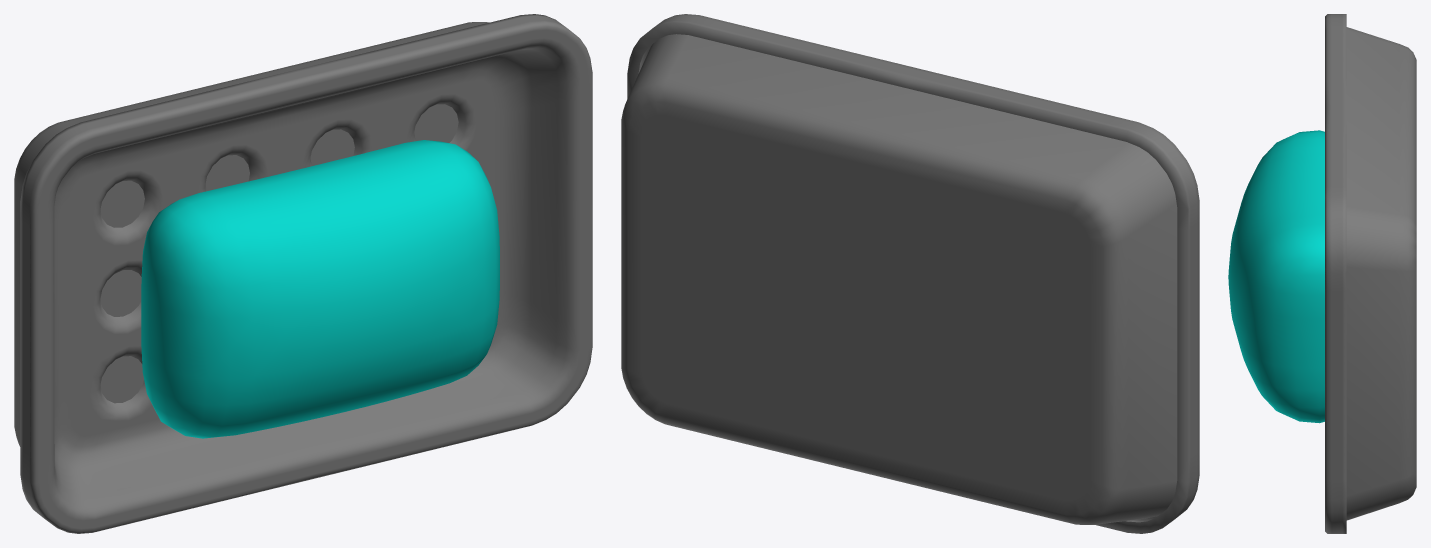
File: soap_steel_obj.obj
3 renders of one model, left to right at view 1: azimuth 30°, elevation 25°; view 2: azimuth 150°, elevation 25°; view 3: azimuth 270°, elevation 25°, orthographic. The views are drawn at different scales.
Parts seen in each view (by area): view 1: Cylinder03, Box01; view 2: Cylinder03; view 3: Cylinder03, Box01.
Boxes of the visible parts, bbox=[...] form: Cylinder03: bbox=[14, 14, 592, 533]; Box01: bbox=[141, 140, 499, 438]; Cylinder03: bbox=[621, 14, 1199, 533]; Cylinder03: bbox=[1325, 14, 1416, 533]; Box01: bbox=[1228, 130, 1324, 423].
Size of the model in its own units: 15.11 by 10.35 by 5.31.
